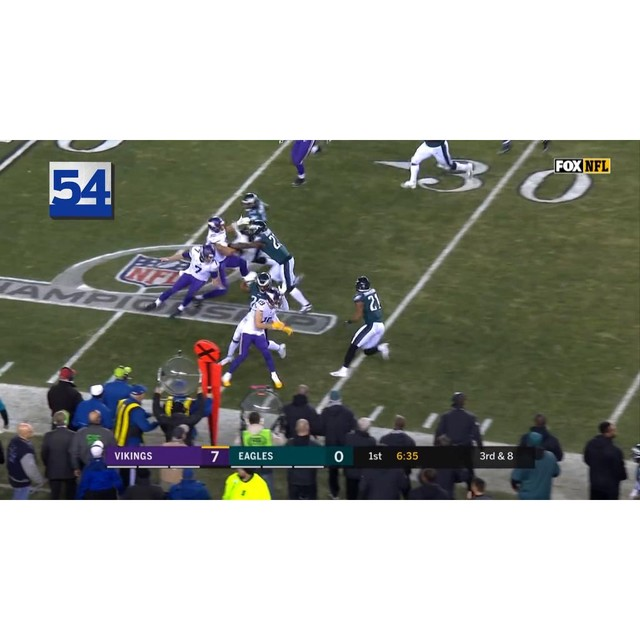american-football-player: (329, 277, 392, 377), (222, 288, 284, 389), (250, 220, 312, 311), (148, 243, 220, 317), (401, 142, 472, 189), (281, 141, 327, 188)
